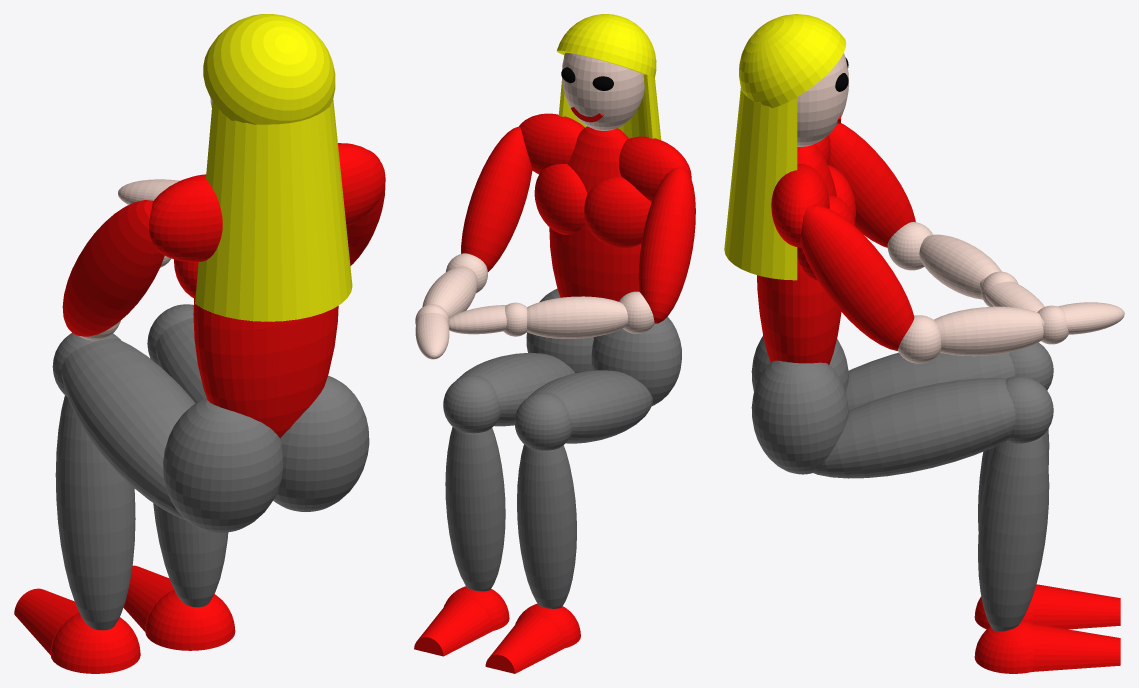
File: Noulo.glb
3 views of the same model, side by side, from view 1: azimuth 30°, elevation 25°; view 2: azimuth 150°, elevation 25°; view 3: azimuth 270°, elevation 25° (orthographic). The views are drawn at different scales.
Parts seen in each view (by area): view 1: VisualSceneNode1.062, VisualSceneNode1.036, VisualSceneNode1.039, VisualSceneNode1.044, VisualSceneNode1.058, VisualSceneNode1.053, VisualSceneNode1.059, VisualSceneNode1.063, VisualSceneNode1.052, VisualSceneNode1.043, VisualSceneNode1.046, VisualSceneNode1.035 (+9 smaller); view 2: VisualSceneNode1.043, VisualSceneNode1.044, VisualSceneNode1.036, VisualSceneNode1.063, VisualSceneNode1.048, VisualSceneNode1.039, VisualSceneNode1.058, VisualSceneNode1.037, VisualSceneNode1.053, VisualSceneNode1.064, VisualSceneNode1.068, VisualSceneNode1.038 (+17 smaller); view 3: VisualSceneNode1.038, VisualSceneNode1.043, VisualSceneNode1.062, VisualSceneNode1.048, VisualSceneNode1.059, VisualSceneNode1.053, VisualSceneNode1.036, VisualSceneNode1.063, VisualSceneNode1.039, VisualSceneNode1.050, VisualSceneNode1.047, VisualSceneNode1.045 (+14 smaller).
Boxes of the visible parts, bbox=[...] form: VisualSceneNode1.062: bbox=[195, 99, 352, 321]; VisualSceneNode1.036: bbox=[193, 295, 338, 438]; VisualSceneNode1.039: bbox=[61, 338, 195, 519]; VisualSceneNode1.044: bbox=[55, 395, 135, 630]; VisualSceneNode1.058: bbox=[163, 397, 282, 532]; VisualSceneNode1.053: bbox=[203, 14, 335, 124]; VisualSceneNode1.059: bbox=[273, 375, 369, 511]; VisualSceneNode1.063: bbox=[62, 200, 164, 336]; VisualSceneNode1.052: bbox=[149, 174, 222, 262]; VisualSceneNode1.043: bbox=[153, 503, 228, 607]; VisualSceneNode1.046: bbox=[145, 590, 235, 650]; VisualSceneNode1.035: bbox=[50, 613, 140, 673]; VisualSceneNode1.043: bbox=[445, 427, 505, 591]; VisualSceneNode1.044: bbox=[517, 444, 576, 608]; VisualSceneNode1.036: bbox=[549, 126, 641, 337]; VisualSceneNode1.063: bbox=[638, 167, 695, 323]; VisualSceneNode1.048: bbox=[461, 126, 532, 271]; VisualSceneNode1.039: bbox=[528, 370, 652, 443]; VisualSceneNode1.058: bbox=[591, 316, 681, 405]; VisualSceneNode1.037: bbox=[562, 52, 644, 130]; VisualSceneNode1.053: bbox=[557, 14, 656, 78]; VisualSceneNode1.064: bbox=[527, 296, 627, 338]; VisualSceneNode1.068: bbox=[584, 177, 651, 247]; VisualSceneNode1.038: bbox=[457, 353, 574, 426]; VisualSceneNode1.038: bbox=[813, 378, 1015, 478]; VisualSceneNode1.043: bbox=[978, 435, 1049, 631]; VisualSceneNode1.062: bbox=[724, 88, 797, 280]; VisualSceneNode1.048: bbox=[800, 204, 914, 350]; VisualSceneNode1.059: bbox=[751, 360, 848, 474]; VisualSceneNode1.053: bbox=[739, 14, 846, 108]; VisualSceneNode1.036: bbox=[757, 144, 841, 364]; VisualSceneNode1.063: bbox=[828, 123, 915, 247]; VisualSceneNode1.039: bbox=[845, 352, 1015, 410]; VisualSceneNode1.050: bbox=[934, 306, 1043, 356]; VisualSceneNode1.047: bbox=[1033, 623, 1120, 671]; VisualSceneNode1.045: bbox=[1033, 584, 1120, 629].
Bounding box in the file's own units: 0.5887 × 1.4 × 0.823.
